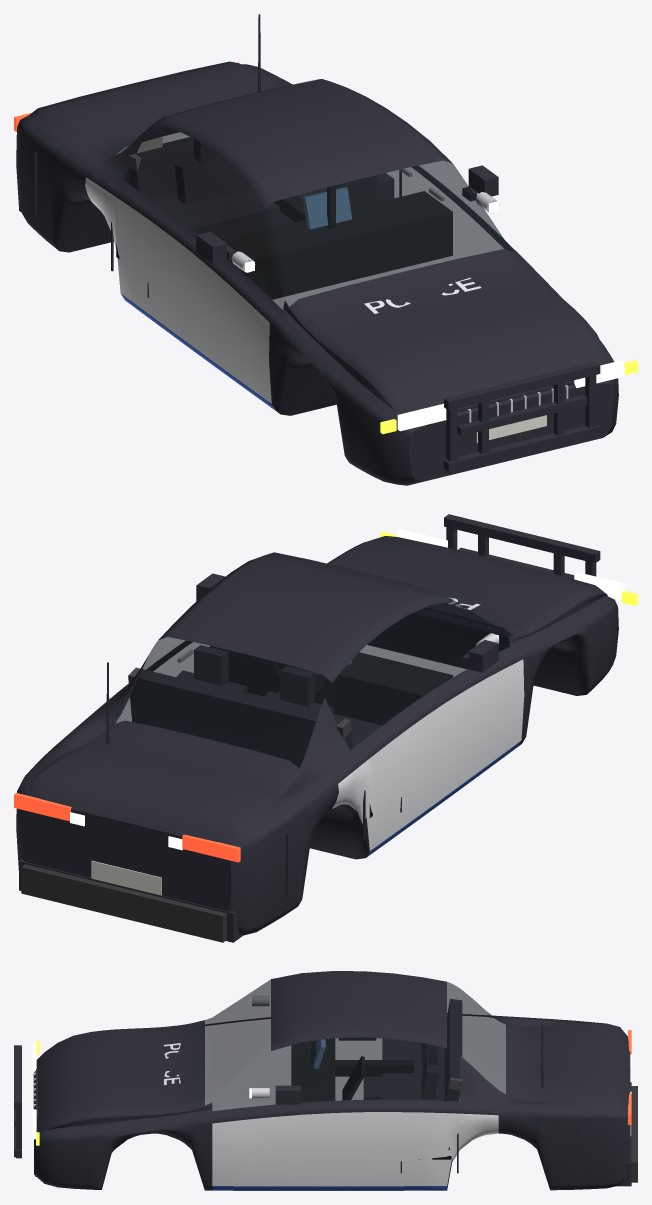
The model's file is police_body.glb.
3 views of the same model, one above another, from view 1: azimuth 30°, elevation 25°; view 2: azimuth 150°, elevation 25°; view 3: azimuth 270°, elevation 25° (orthographic). The views are drawn at different scales.
Visible parts, largest first — view 1: police_body; view 2: police_body; view 3: police_body.
Part boxes in pixels (left/top/right/bottom): police_body: left=14, top=14, right=637, bottom=485; police_body: left=14, top=514, right=637, bottom=942; police_body: left=14, top=971, right=637, bottom=1190.
Size of the model in its own units: 2.04 by 1.34 by 4.97.
Materials: 18 (1 with a texture image).
